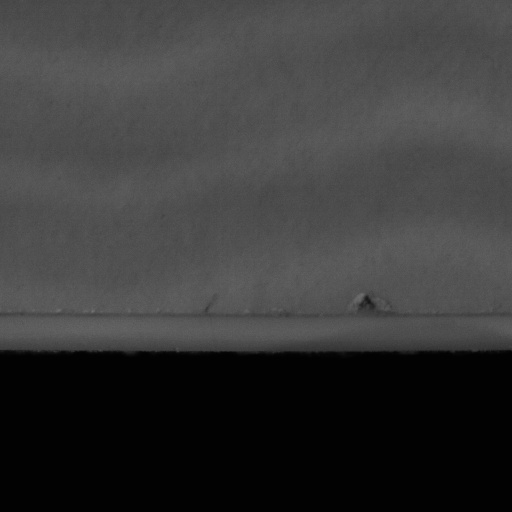bengque: (347, 290, 394, 317)
